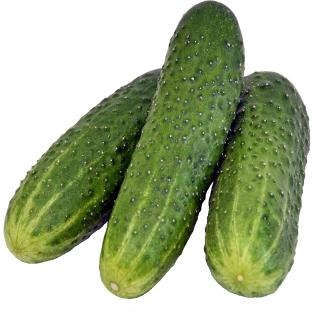Cucumber: (100, 2, 244, 298), (4, 69, 160, 263), (205, 72, 309, 296)
